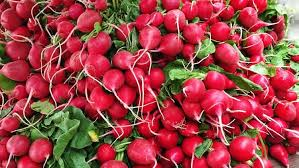raddish: (190, 85, 240, 122), (91, 61, 133, 99), (123, 135, 179, 163), (90, 71, 114, 122), (212, 38, 249, 71), (158, 97, 190, 135), (203, 133, 238, 167), (182, 68, 215, 102), (81, 50, 113, 82), (84, 23, 114, 57), (206, 17, 238, 48), (1, 131, 34, 161), (225, 130, 258, 159), (23, 72, 49, 107), (0, 57, 35, 82), (20, 40, 49, 70), (157, 29, 184, 61), (134, 22, 160, 55), (28, 133, 57, 162), (160, 8, 190, 35), (269, 62, 299, 89), (73, 7, 103, 33), (100, 64, 126, 94), (52, 78, 82, 104), (267, 140, 295, 166), (181, 16, 204, 47), (232, 6, 260, 30), (9, 0, 41, 19), (1, 6, 22, 34)
